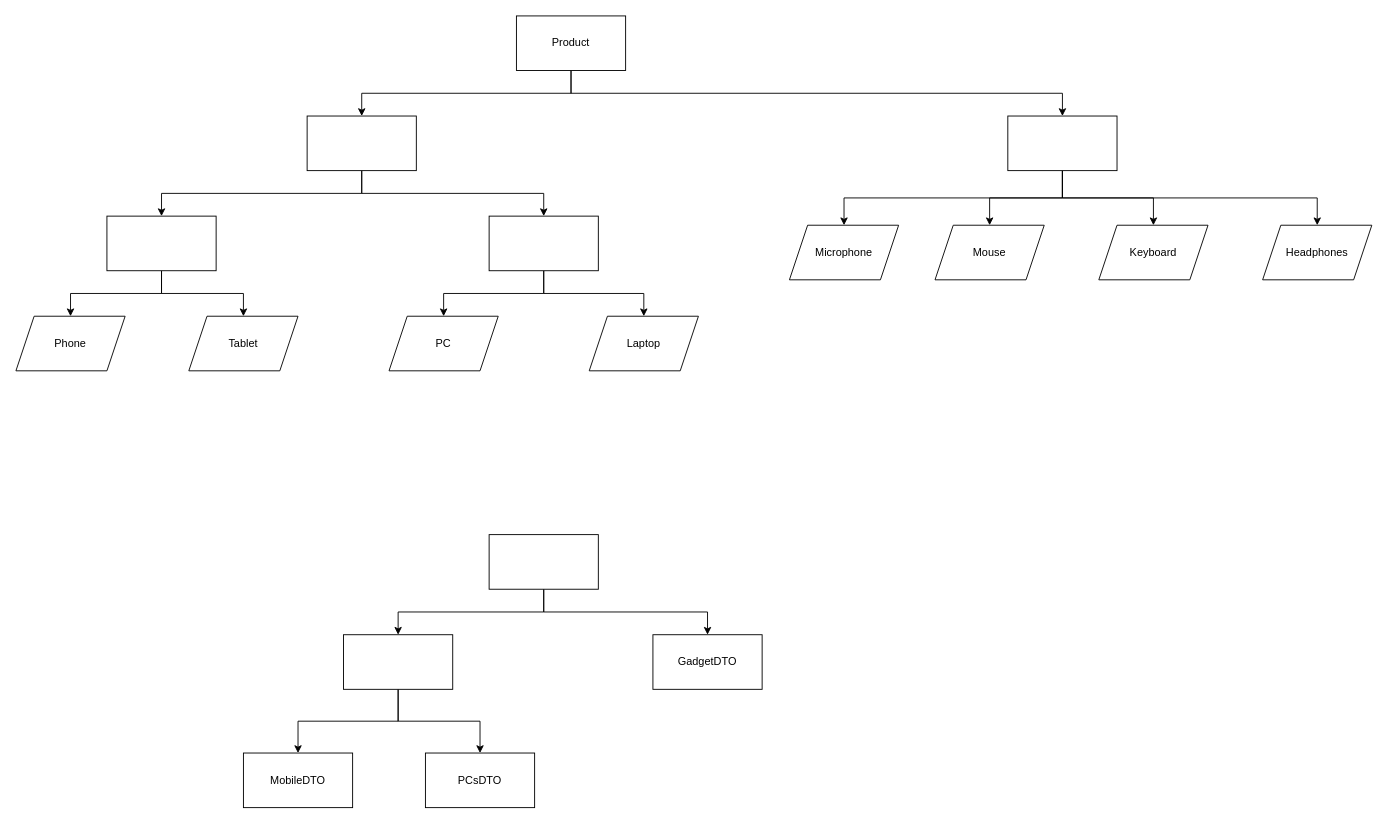
Image size: 1388x824. Some labels were removed from this diagram. Each missing label, with the box of its shape:
Devise: (306, 115, 416, 171)
DeviseDTO: (343, 634, 453, 689)
Gadget: (1007, 115, 1117, 171)
Mobile: (106, 215, 216, 271)
PCs: (488, 215, 598, 271)
ProductDTO: (488, 534, 598, 589)
